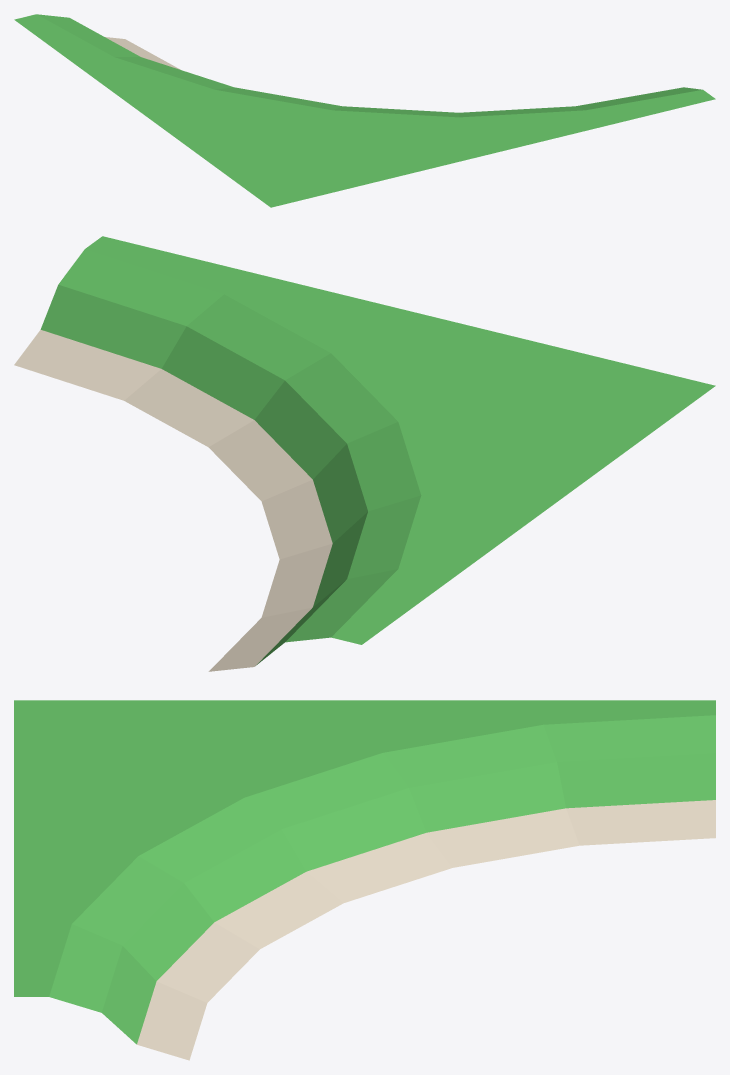
The model's file is Hilly_Terrain_Path_Corner_Outer_2x2.glb.
3 renders of one model, top to bottom at view 1: azimuth 30°, elevation 25°; view 2: azimuth 150°, elevation 25°; view 3: azimuth 270°, elevation 25°, orthographic. The views are drawn at different scales.
Visible parts, largest first — view 1: Hilly_Terrain_Path_Corner_Outer_2x2; view 2: Hilly_Terrain_Path_Corner_Outer_2x2; view 3: Hilly_Terrain_Path_Corner_Outer_2x2.
Part boxes in pixels (box(x1,y1,x2,y2)): Hilly_Terrain_Path_Corner_Outer_2x2: box(14, 14, 715, 207); Hilly_Terrain_Path_Corner_Outer_2x2: box(14, 236, 715, 671); Hilly_Terrain_Path_Corner_Outer_2x2: box(14, 700, 715, 1060).
Bounding box in the file's own units: 2 × 0.2 × 2.
